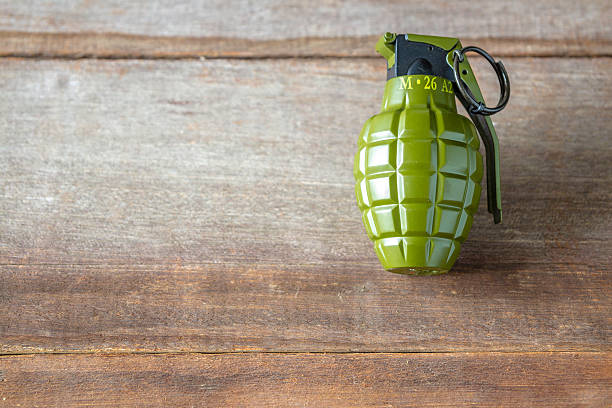e1: (360, 33, 518, 275)
